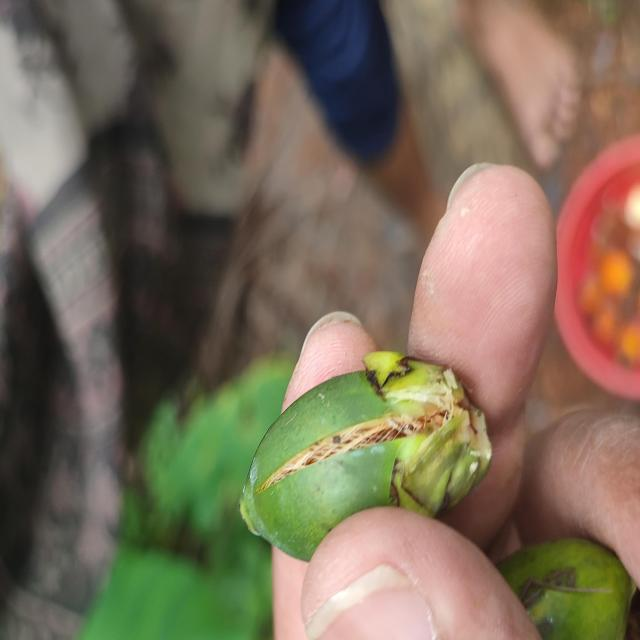damaged: (238, 352, 494, 565)
